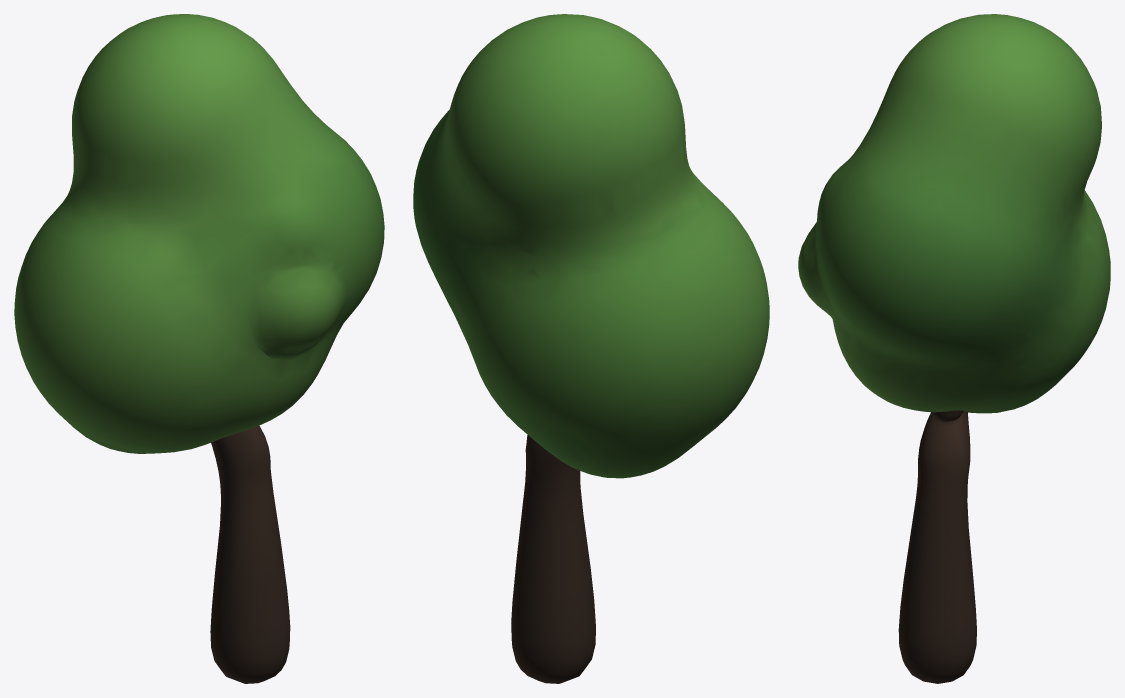
The model's file is tree_10_2.glb.
The picture shows the model from 3 angles, left to right: view 1: azimuth 30°, elevation 25°; view 2: azimuth 150°, elevation 25°; view 3: azimuth 270°, elevation 25°; orthographic projection. The views are drawn at different scales.
Visible parts, largest first — view 1: canopy, bark; view 2: canopy, bark; view 3: canopy, bark.
Part boxes in pixels (<box>): canopy: <box>14,14,384,453</box>; bark: <box>210,425,290,683</box>; canopy: <box>413,14,769,478</box>; bark: <box>511,435,595,683</box>; canopy: <box>798,14,1110,413</box>; bark: <box>898,410,976,683</box>.
Size of the model in its own units: 1.14 by 2.22 by 0.9899.
